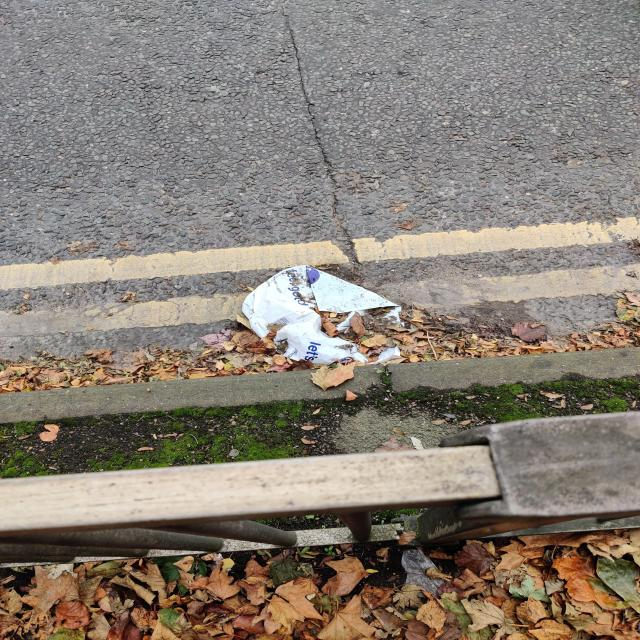litter: (245, 270, 404, 362)
